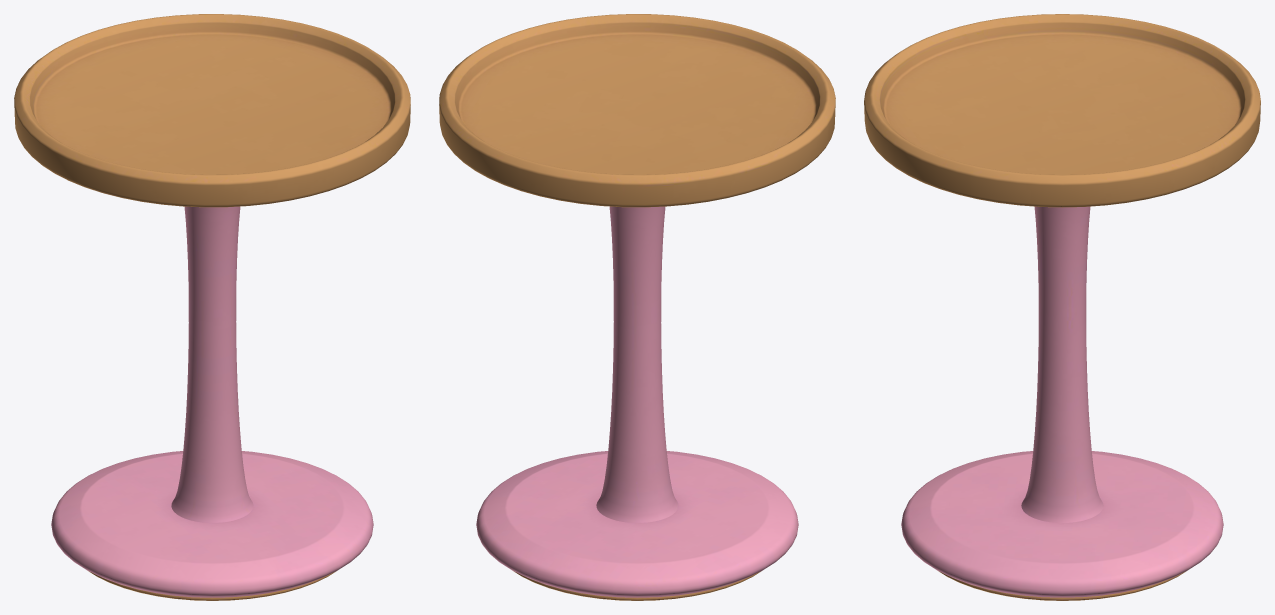
File: side-table.glb
The picture shows the model from 3 angles, left to right: view 1: azimuth 30°, elevation 25°; view 2: azimuth 150°, elevation 25°; view 3: azimuth 270°, elevation 25°; orthographic projection.
Parts seen in each view (by area): view 1: side-table_body; view 2: side-table_body; view 3: side-table_body.
Boxes of the visible parts, x1,y1,x2,y2 form: side-table_body: [14, 14, 410, 600]; side-table_body: [439, 14, 835, 600]; side-table_body: [864, 14, 1260, 600].
Size of the model in its own units: 0.4519 by 0.5589 by 0.4519.
1 material, 1 textured.
